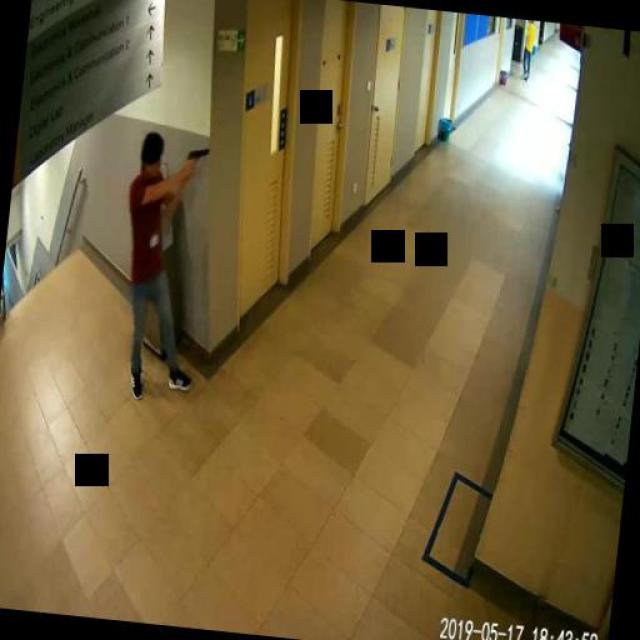gun: (182, 144, 208, 175)
